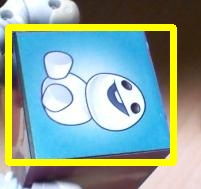Blue1: (14, 27, 173, 161)
